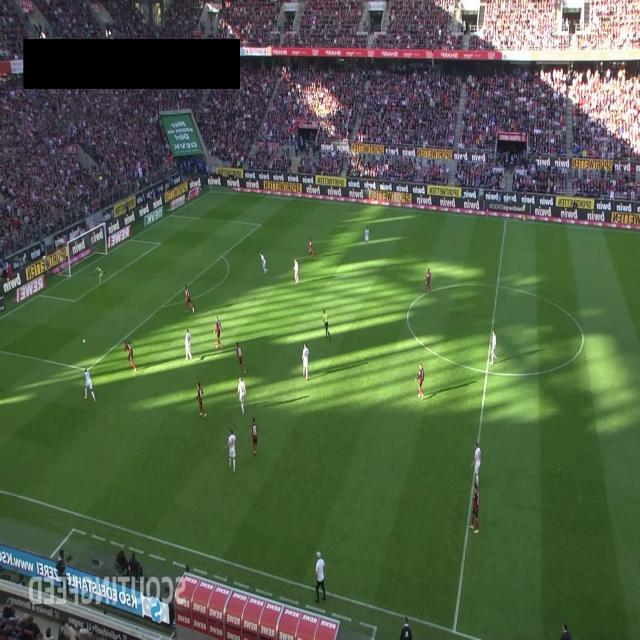ball: (82, 338, 86, 344)
goalkeeper: (92, 264, 106, 286)
player: (224, 428, 237, 472), (471, 442, 481, 488), (83, 368, 96, 403), (123, 341, 137, 372), (471, 483, 479, 533), (196, 382, 206, 417), (237, 376, 246, 414), (236, 341, 246, 374), (250, 417, 258, 458), (416, 363, 424, 401), (184, 284, 194, 314), (213, 316, 222, 349), (490, 330, 498, 364), (302, 343, 309, 381), (185, 328, 192, 361), (560, 622, 572, 640), (259, 252, 268, 274), (308, 237, 316, 260), (425, 268, 432, 293), (293, 258, 299, 285), (364, 226, 369, 248)
referee: (322, 308, 331, 341), (521, 199, 526, 222)
